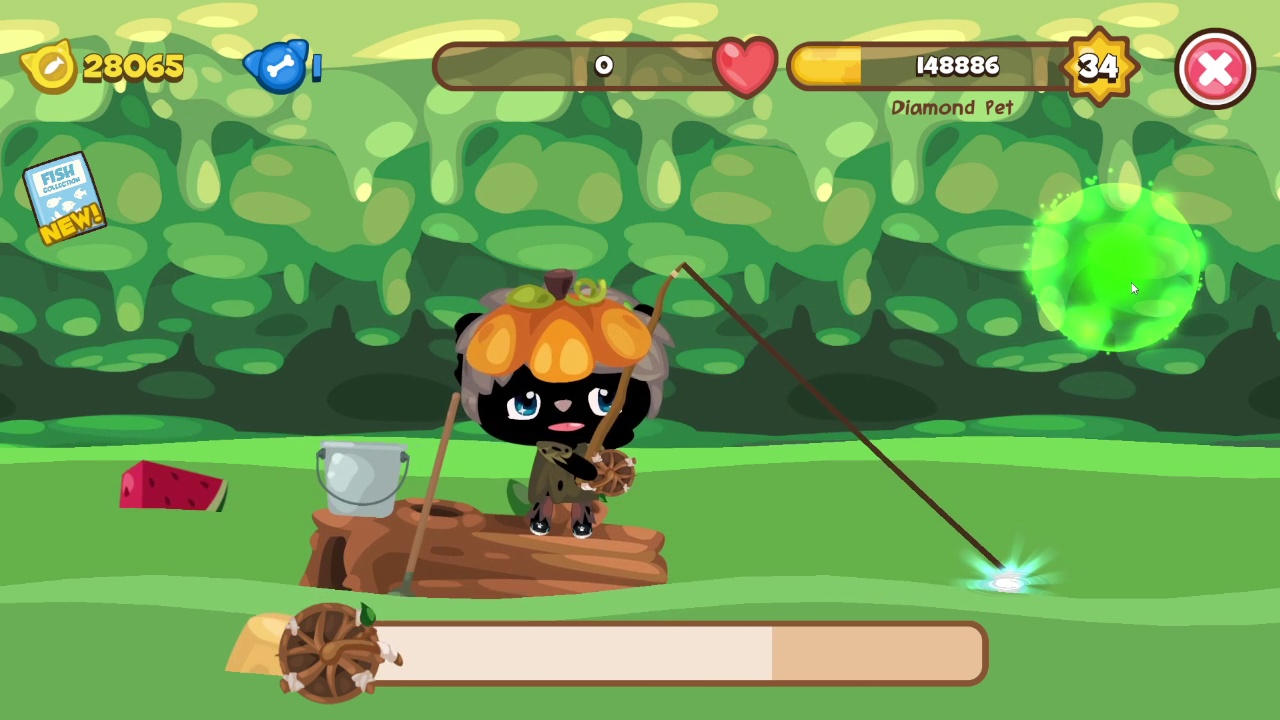point: (1027, 181, 1205, 355)
